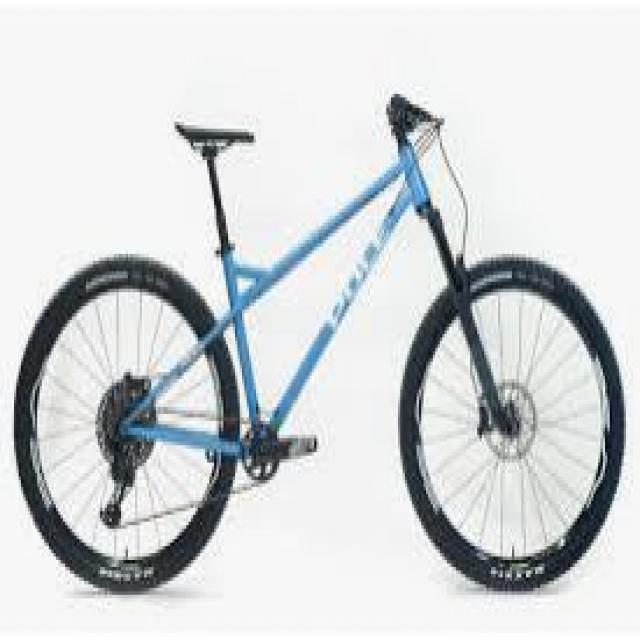bicycle: (27, 92, 639, 607)
